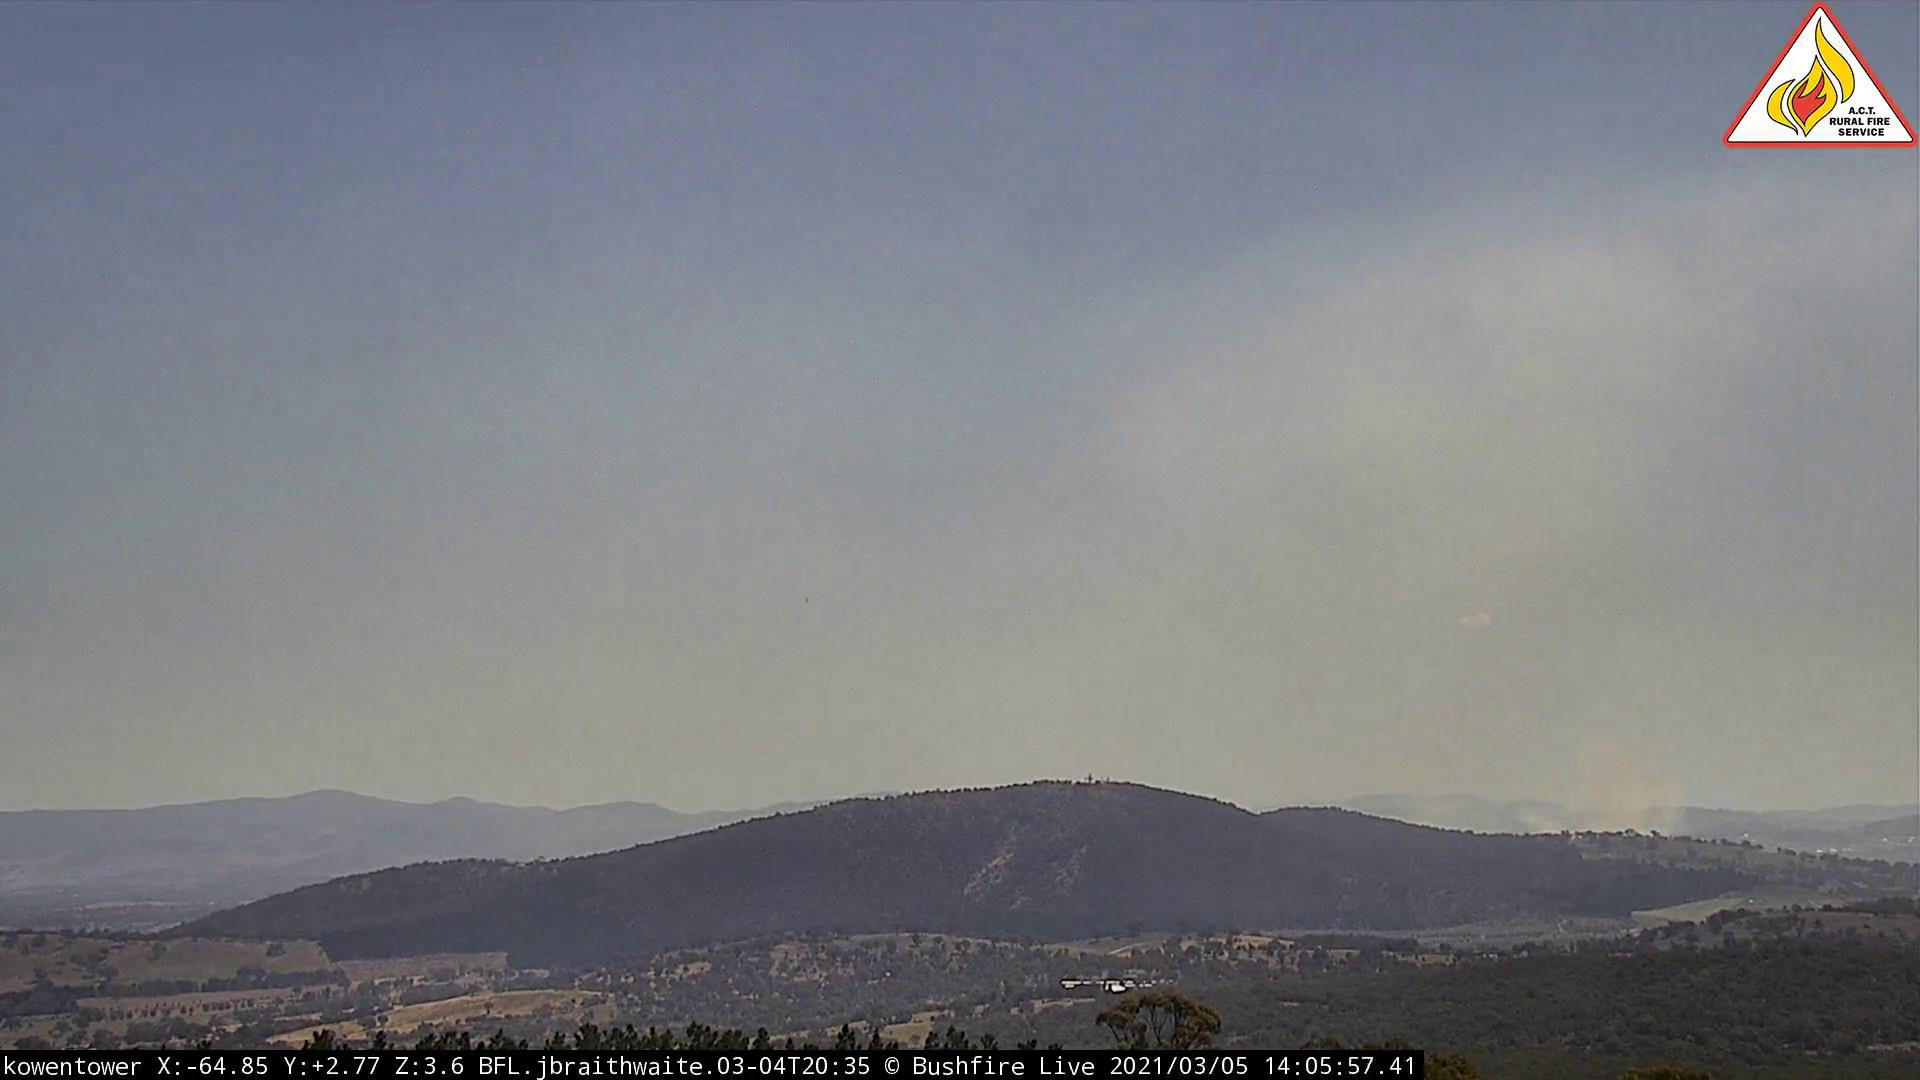Smoke: (1447, 655, 1683, 844)
